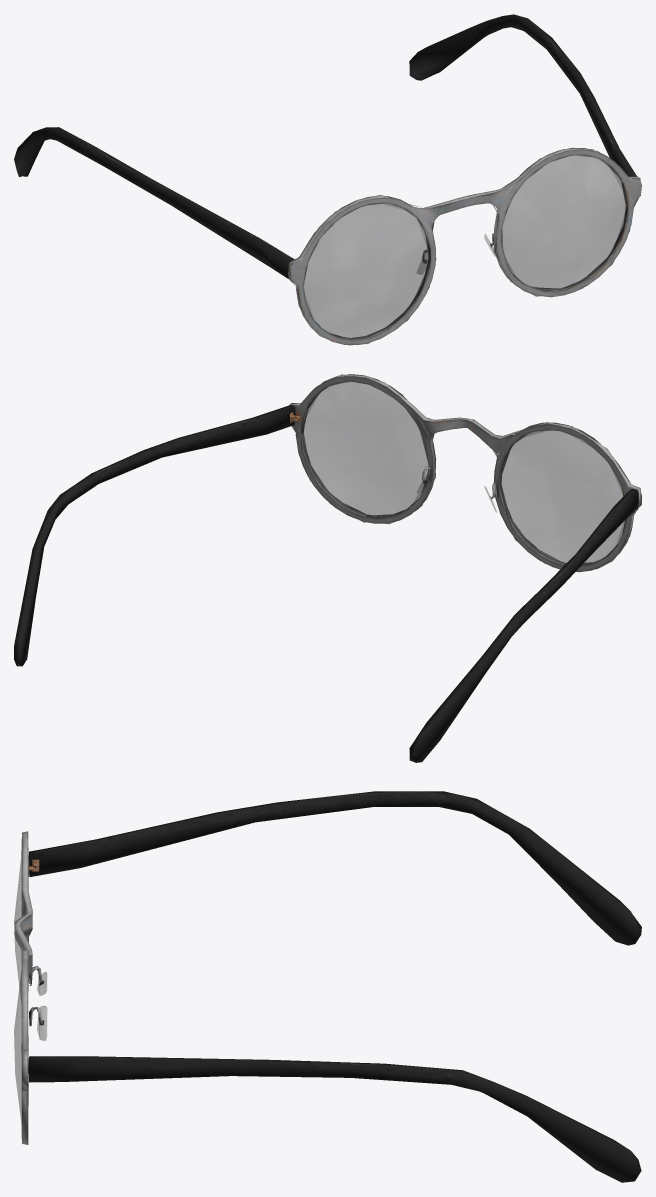
The model's file is round_spectacles.glb.
3 renders of one model, top to bottom at view 1: azimuth 30°, elevation 25°; view 2: azimuth 150°, elevation 25°; view 3: azimuth 270°, elevation 25°, orthographic. The views are drawn at different scales.
Parts seen in each view (by area): view 1: round_spectacles; view 2: round_spectacles; view 3: round_spectacles.
Part boxes in pixels (x1,y1,x2,y2): round_spectacles: [14, 14, 641, 345]; round_spectacles: [14, 374, 641, 762]; round_spectacles: [14, 791, 641, 1182].
Size of the model in its own units: 0.1578 by 0.0469 by 0.1492.
2 materials, 2 textured.
